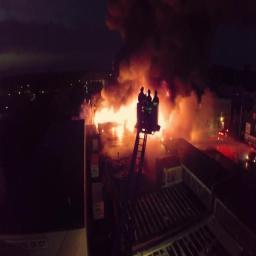Low smoke: (101, 0, 255, 165)
Small fire: (81, 60, 205, 155)
